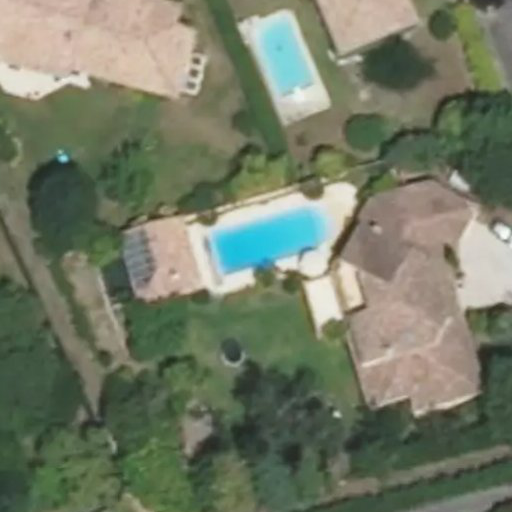pool: (211, 209, 330, 278), (259, 17, 313, 96)
